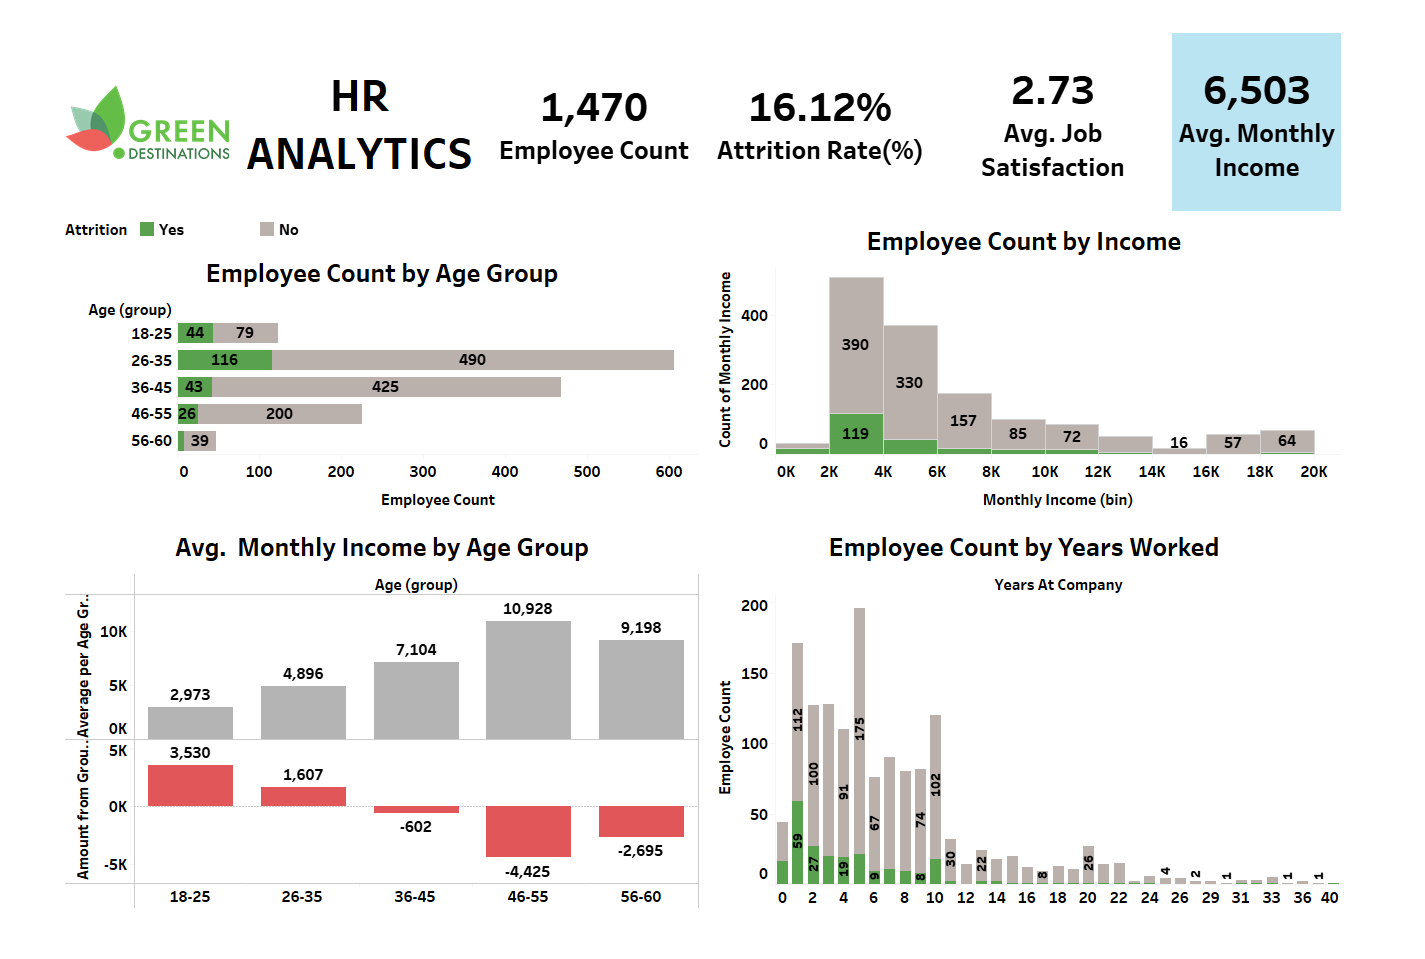

Layout of this report page (visuals, bound fields, positions):
{"tool":"tableau","page":{"name":"Dashboard 1","canvas":[1300,900],"ordinal":0},"visuals":[{"type":"image","param":"E:/Tableau/Green_destinations/greendestination+logo.png","box":[8,8,172,186]},{"type":"text","box":[180,8,253,186]},{"type":"worksheet","title":"Total Employee Count","mark":"Automatic","box":[433,8,217,186]},{"type":"worksheet","title":"Attrition Rate","mark":"Automatic","box":[650,8,234,186]},{"type":"worksheet","title":"Job Satisfaction","mark":"Automatic","box":[884,8,231,186]},{"type":"worksheet","title":"Avg. Monthly Income","mark":"Automatic","box":[1115,8,177,186]},{"type":"legend","title":"Employee Count by Age","param":"[federated.0xcmyqw1mo5odc1ecwr3b0rr09fs].[none:Attrition:nk]","box":[8,194,642,32]},{"type":"worksheet","title":"Employee Count by Income","mark":"Automatic","rows":["MonthlyIncome"],"cols":["Monthly Income (bin)"],"box":[650,194,642,306]},{"type":"worksheet","title":"Employee Count by Age","mark":"Automatic","cols":["EmployeeCount"],"box":[8,226,642,274]},{"type":"worksheet","title":"Avg Income per Age","mark":"Automatic","rows":["Calculation_964614786844631040","Calculation_964614786846244866"],"box":[8,500,642,392]},{"type":"worksheet","title":"Employee Count by Years Worked","mark":"Automatic","rows":["EmployeeCount"],"cols":["YearsAtCompany"],"box":[650,500,642,392]}]}

Visuals, with their boxes in screenshot pixels (x1, y1, x2, y2), scaled from the page's 1300x900 canvas onto the 1425x959 screenshot:
image: [x1=9, y1=9, x2=197, y2=207]
text: [x1=197, y1=9, x2=475, y2=207]
"Total Employee Count" worksheet: [x1=475, y1=9, x2=713, y2=207]
"Attrition Rate" worksheet: [x1=713, y1=9, x2=969, y2=207]
"Job Satisfaction" worksheet: [x1=969, y1=9, x2=1222, y2=207]
"Avg. Monthly Income" worksheet: [x1=1222, y1=9, x2=1416, y2=207]
"Employee Count by Age" legend: [x1=9, y1=207, x2=713, y2=241]
"Employee Count by Income" worksheet: [x1=713, y1=207, x2=1416, y2=533]
"Employee Count by Age" worksheet: [x1=9, y1=241, x2=713, y2=533]
"Avg Income per Age" worksheet: [x1=9, y1=533, x2=713, y2=950]
"Employee Count by Years Worked" worksheet: [x1=713, y1=533, x2=1416, y2=950]
